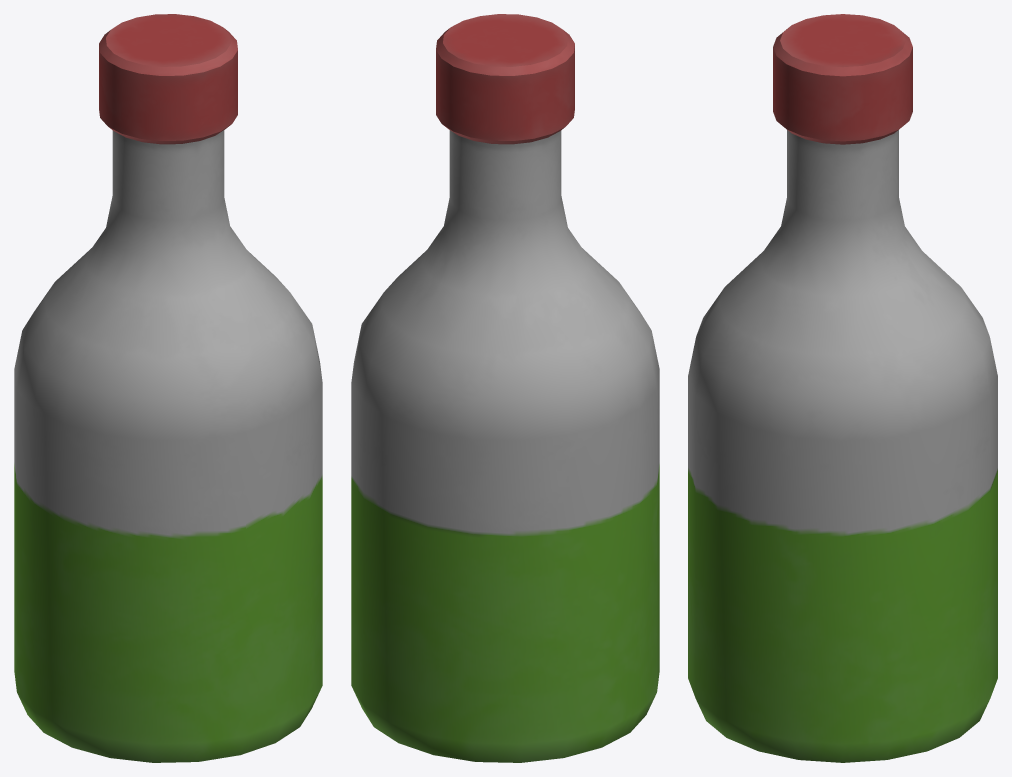
File: SM_Bottle3.fbx
3 views of the same model, side by side, from view 1: azimuth 30°, elevation 25°; view 2: azimuth 150°, elevation 25°; view 3: azimuth 270°, elevation 25° (orthographic).
Visible parts, largest first — view 1: SM_Bottle3_LOD0; view 2: SM_Bottle3_LOD0; view 3: SM_Bottle3_LOD0.
Part boxes in pixels (box(x1,y1,x2,y2)): SM_Bottle3_LOD0: box(14, 14, 322, 762); SM_Bottle3_LOD0: box(351, 14, 659, 762); SM_Bottle3_LOD0: box(688, 14, 997, 762).
Bounding box in the file's own units: 9 × 9 × 21.53.
Materials: 1 (1 with a texture image).
